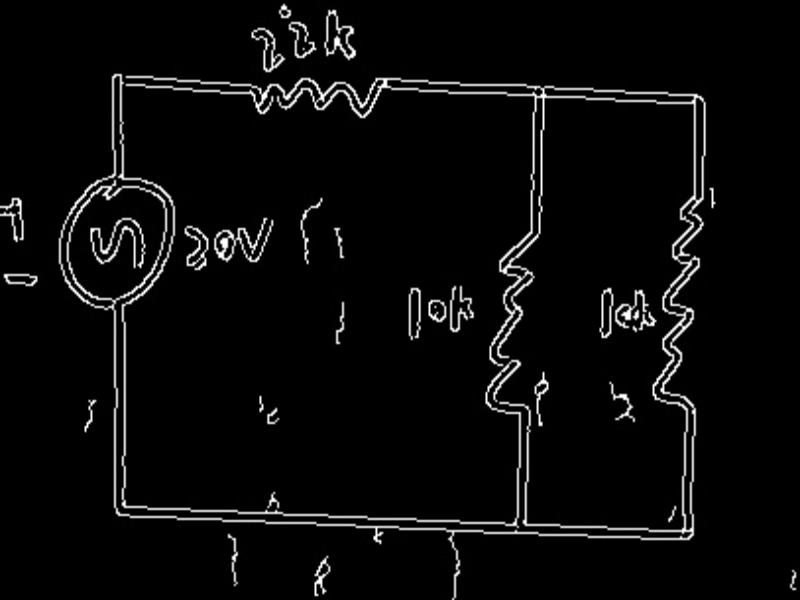-: (1, 269, 40, 290)
0: (211, 226, 237, 263), (612, 301, 637, 333), (425, 294, 447, 324)
1: (597, 285, 616, 342), (404, 284, 422, 342), (516, 400, 517, 402)
2: (248, 24, 287, 75), (182, 222, 211, 276), (287, 20, 319, 62)
V: (237, 215, 277, 263)
k: (322, 8, 358, 64), (448, 281, 475, 335), (632, 287, 658, 335)
